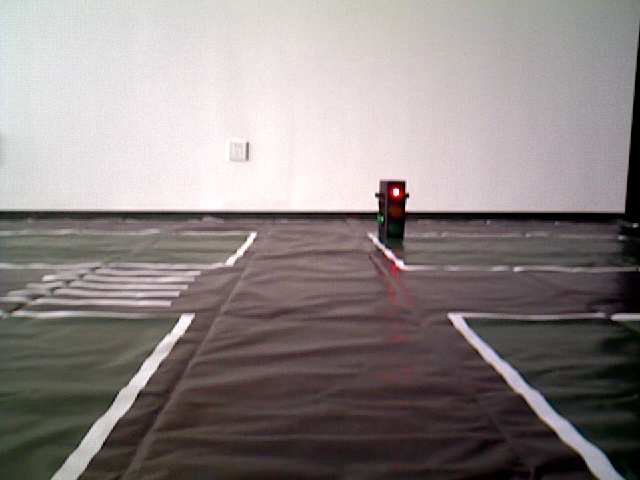red: (378, 183, 406, 244)
